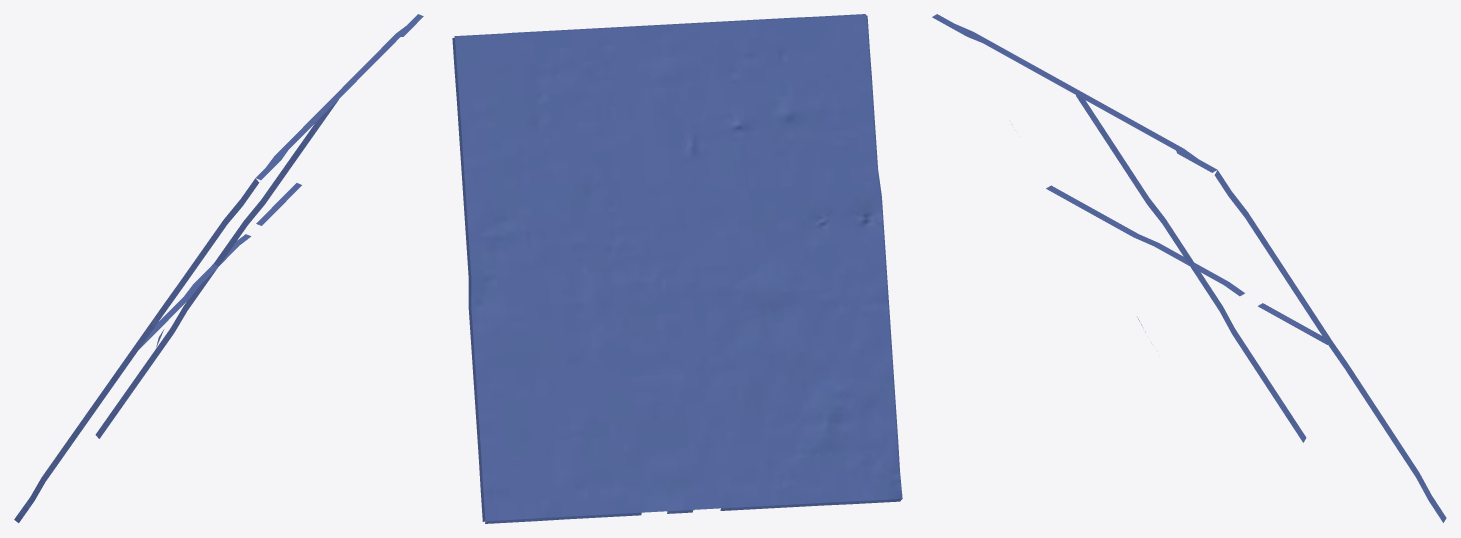
3 renders of one model, left to right at view 1: azimuth 30°, elevation 25°; view 2: azimuth 150°, elevation 25°; view 3: azimuth 270°, elevation 25°, orthographic. The views are drawn at different scales.
Bounding box in the file's own units: 158267 × 135304 × 148125.
Materials: 1 (1 with a texture image).
